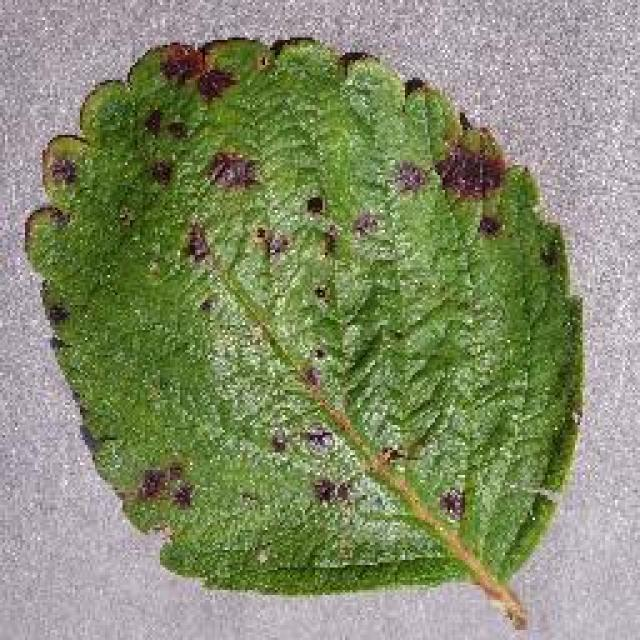Strawberry leaf scorch: (105, 56, 508, 436)
